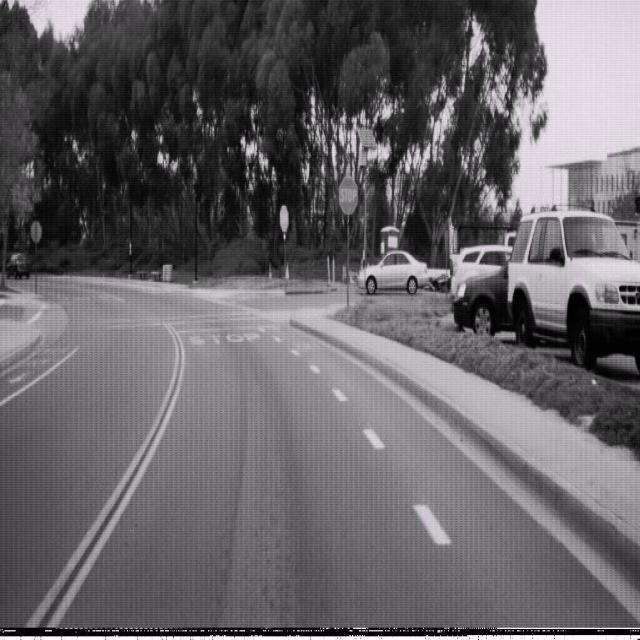stop: (338, 174, 358, 217), (279, 204, 289, 234)
